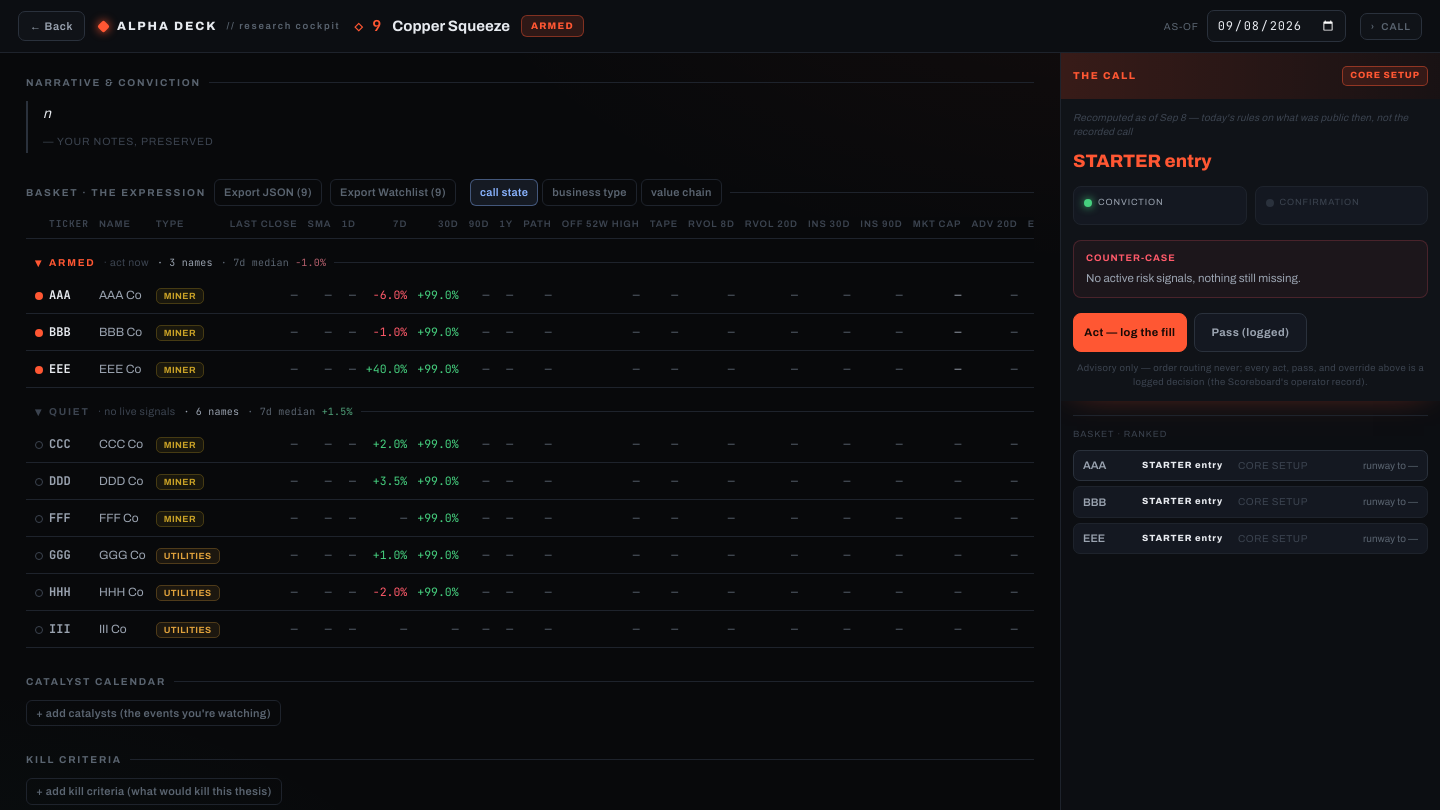
Test: Cockpit — the group header's moving line (7d median) › counts an unpriced name in N but leaves it out of the median — the row's own 7d '—'
The width and height of the screenshot is (1440, 810).
Click the button "value chain" at (681, 192), box [641,179,722,206]
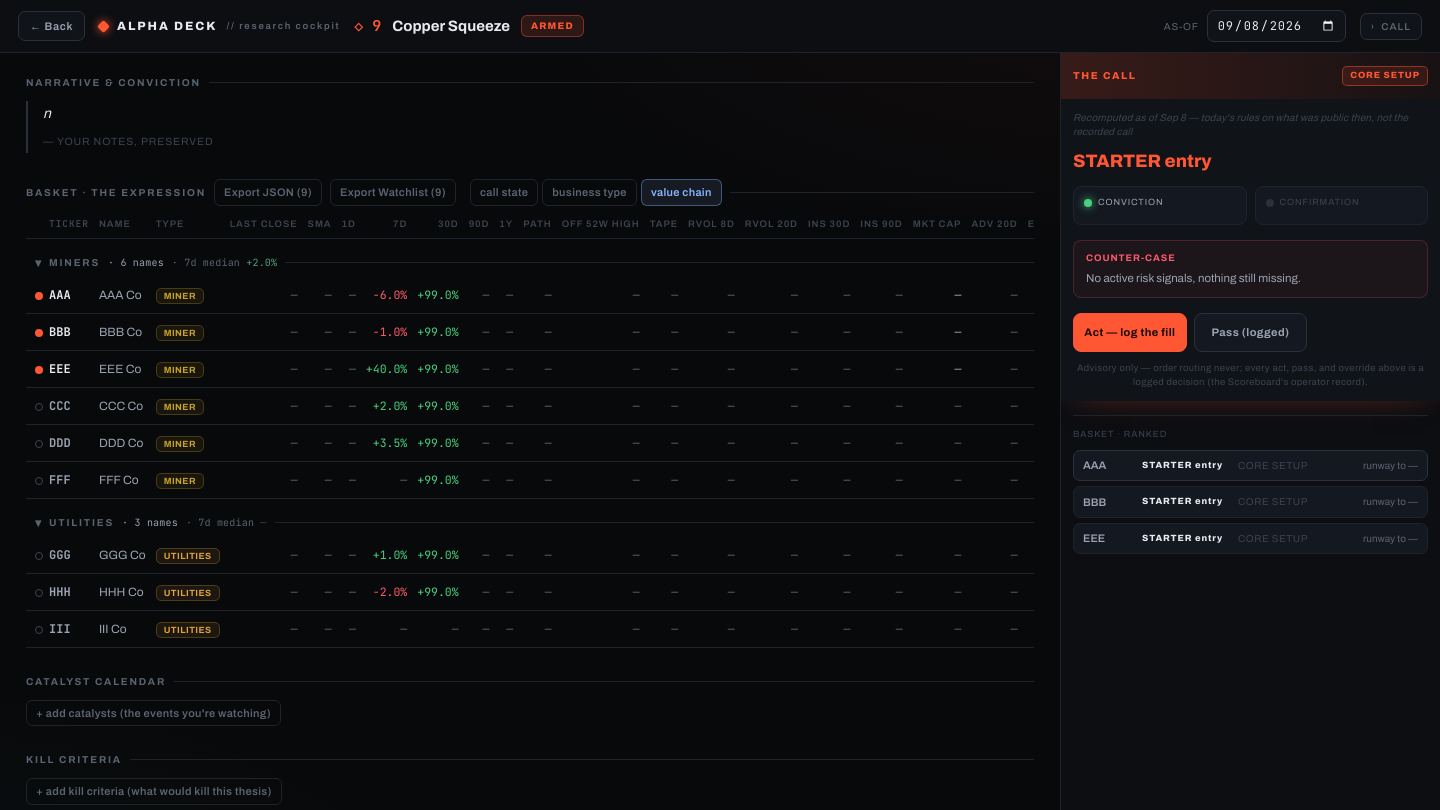
Expected: the text "—" is shown, [366,461,417,498]
Expected: the text "· 6 names" is shown, [108,255,164,270]
